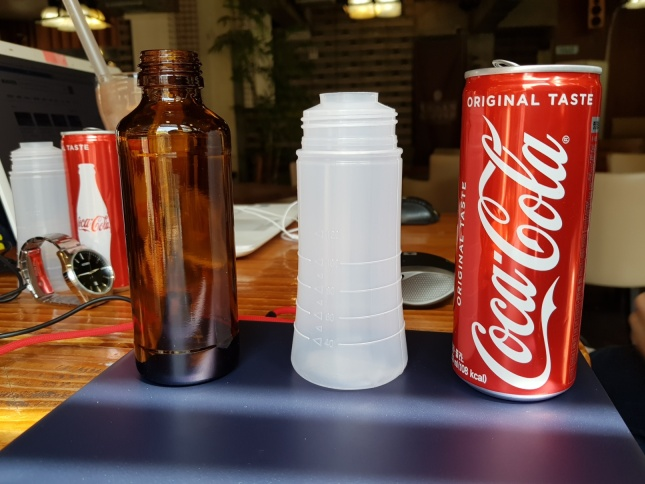Can: (447, 51, 609, 405)
Glass: (106, 44, 242, 388)
Plastic: (281, 86, 414, 395)
